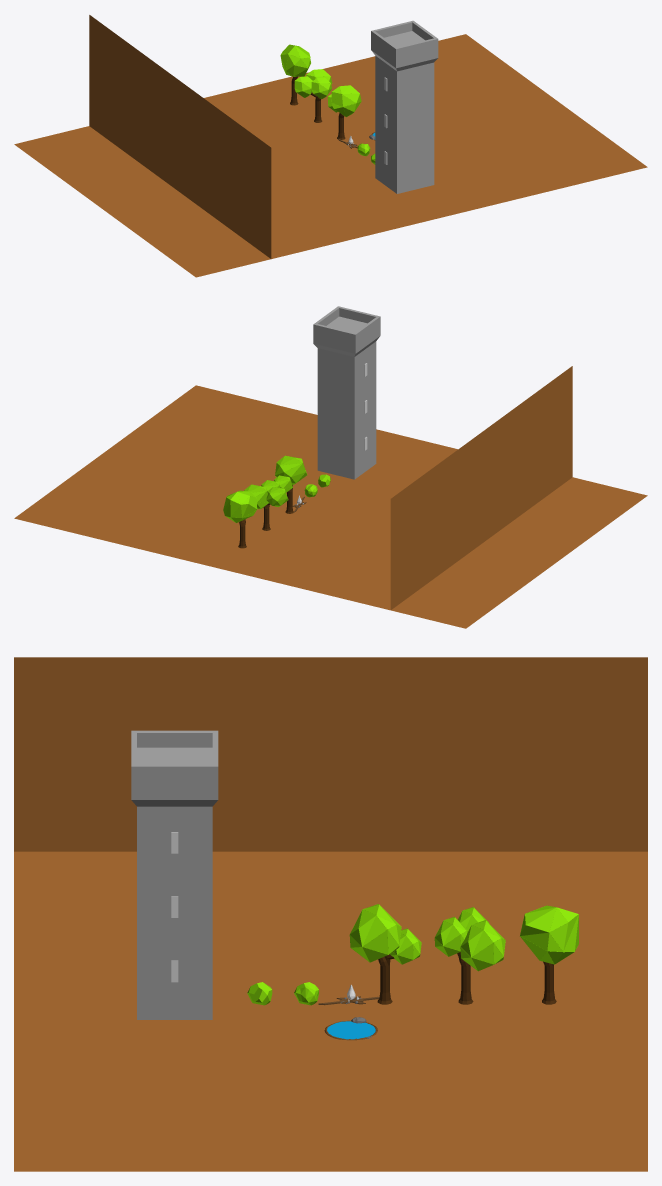
Rendered from Interactive Island Ojects.fbx.
3 views of the same model, one above another, from view 1: azimuth 30°, elevation 25°; view 2: azimuth 150°, elevation 25°; view 3: azimuth 270°, elevation 25° (orthographic). The views are drawn at different scales.
Visible parts, largest first — view 1: Plane.001, Tower, Leaves.005, Leaves; view 2: Plane.001, Tower, Leaves.005, Leaves; view 3: Plane.001, Tower, Leaves.005, Leaves, Leaves.003, Leaves.002, Pond.
Part boxes in pixels (x1=…): Plane.001: x1=14, y1=15, x2=647, y2=277; Tower: x1=371, y1=20, x2=438, y2=193; Leaves.005: x1=280, y1=44, x2=310, y2=76; Leaves: x1=331, y1=85, x2=361, y2=117; Plane.001: x1=14, y1=366, x2=647, y2=628; Tower: x1=313, y1=306, x2=380, y2=479; Leaves.005: x1=223, y1=490, x2=257, y2=522; Leaves: x1=275, y1=455, x2=307, y2=484; Plane.001: x1=14, y1=657, x2=647, y2=1171; Tower: x1=131, y1=730, x2=218, y2=1019; Leaves.005: x1=520, y1=905, x2=578, y2=964; Leaves: x1=349, y1=904, x2=401, y2=962; Leaves.003: x1=460, y1=920, x2=505, y2=971; Leaves.002: x1=434, y1=916, x2=468, y2=956; Pond: x1=324, y1=1020, x2=377, y2=1040.
Bounding box in the file's own units: 7666 × 2459 × 5347.
